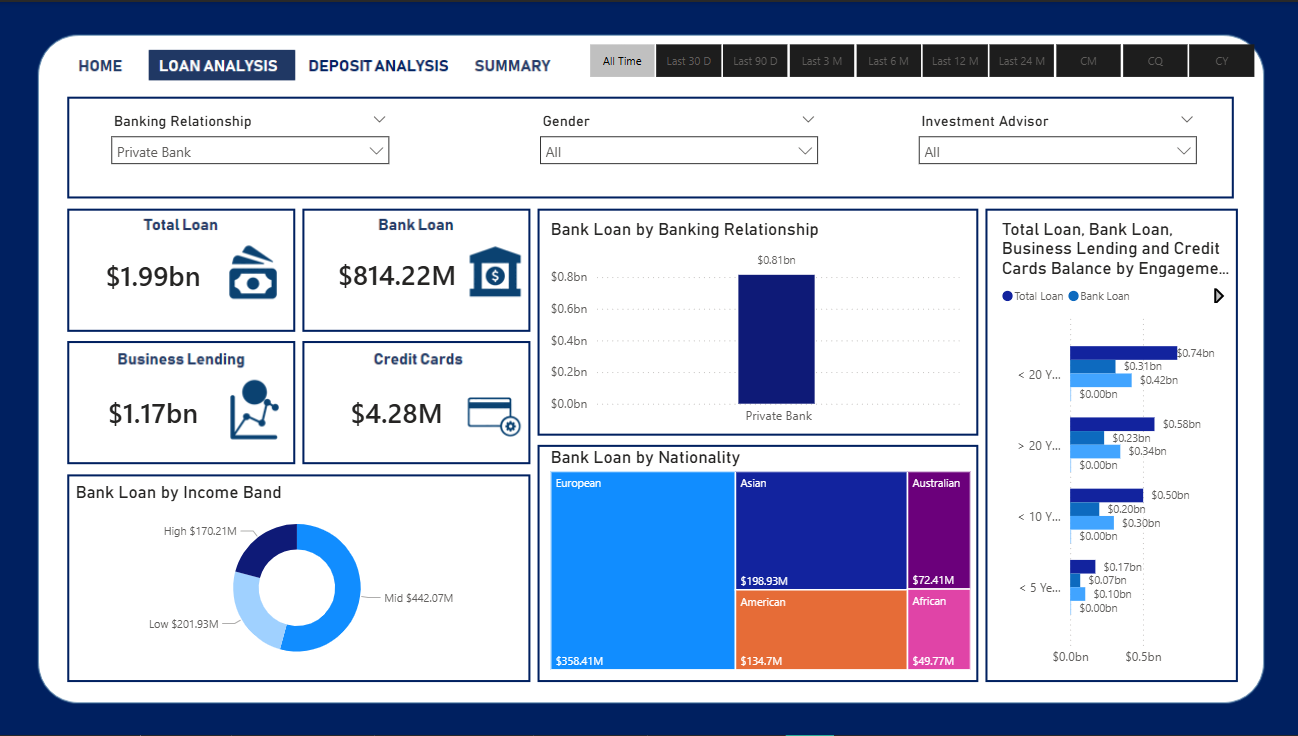

The dashboard page shown, as its layout file describes it:
{"tool":"powerbi","page":{"name":"Loan Analysis","canvas":[1280,720],"ordinal":1},"visuals":[{"type":"card","fields":{"Values":["DAX Measures.Total Loan"]},"box":[72.7,224,161.8,90.3],"z":0},{"type":"card","fields":{"Values":["DAX Measures.Bank Loan"]},"box":[307.2,224,172.4,89.1],"z":1000},{"type":"card","fields":{"Values":["DAX Measures.Credit Cards"]},"box":[307.2,360,171.2,89.1],"z":2000},{"type":"card","fields":{"Values":["DAX Measures.Business Lending"]},"box":[72.7,360,161.8,89.1],"z":3000},{"type":"slicer","fields":{"Values":["Banking Relationship.Banking Relationship"]},"box":[102.3,103.4,292.9,75.7],"z":4000},{"type":"slicer","fields":{"Values":["Gender.Gender"]},"box":[522.7,103.4,292.9,75.7],"z":5000},{"type":"slicer","fields":{"Values":["Investment Advisor.Investment Advisor"]},"box":[895,103.4,292.9,75.7],"z":6000},{"type":"donutChart","fields":{"Category":["Clients - Banking.Income Band"],"Y":["DAX Measures.Bank Loan"]},"box":[72.7,471.4,444.4,188.8],"z":7000},{"type":"clusteredBarChart","fields":{"Category":["Clients - Banking.Engagement Timeframe"],"Y":["DAX Measures.Total Loan","DAX Measures.Bank Loan","DAX Measures.Business Lending","DAX Measures.Credit Cards"]},"box":[981.5,212.2,236.9,447.9],"z":8000},{"type":"treemap","fields":{"Group":["Clients - Banking.Nationality"],"Values":["DAX Measures.Bank Loan"]},"box":[538.2,436.2,422.1,224],"z":9000},{"type":"lineClusteredColumnComboChart","fields":{"Y":["DAX Measures.Bank Loan"],"Category":["Banking Relationship.Banking Relationship"]},"box":[538.2,212.2,411.6,212.2],"z":10000},{"type":"slicer","fields":{"Values":["Period.Name"]},"box":[555.2,34.6,702.1,46.6],"z":11000},{"type":"actionButton","box":[72.8,44.2,58.5,31],"z":12000},{"type":"actionButton","box":[306.9,44.7,119.4,31],"z":13000},{"type":"actionButton","box":[471.6,44.2,83.6,31],"z":14000}]}

Visuals, with their boxes in screenshot pixels (x1, y1, x2, y2), scaled from the page's 1280x720 canvas onto the 1298x736 screenshot:
card - DAX Measures.Total Loan: crop(74, 229, 238, 321)
card - DAX Measures.Bank Loan: crop(312, 229, 486, 320)
card - DAX Measures.Credit Cards: crop(312, 368, 485, 459)
card - DAX Measures.Business Lending: crop(74, 368, 238, 459)
slicer - Banking Relationship.Banking Relationship: crop(104, 106, 401, 183)
slicer - Gender.Gender: crop(530, 106, 827, 183)
slicer - Investment Advisor.Investment Advisor: crop(908, 106, 1205, 183)
donutChart - Clients - Banking.Income Band x DAX Measures.Bank Loan: crop(74, 482, 524, 675)
clusteredBarChart - Clients - Banking.Engagement Timeframe x DAX Measures.Total Loan: crop(995, 217, 1236, 675)
treemap - Clients - Banking.Nationality x DAX Measures.Bank Loan: crop(546, 446, 974, 675)
lineClusteredColumnComboChart - DAX Measures.Bank Loan x Banking Relationship.Banking Relationship: crop(546, 217, 963, 434)
slicer - Period.Name: crop(563, 35, 1275, 83)
actionButton: crop(74, 45, 133, 77)
actionButton: crop(311, 46, 432, 77)
actionButton: crop(478, 45, 563, 77)
